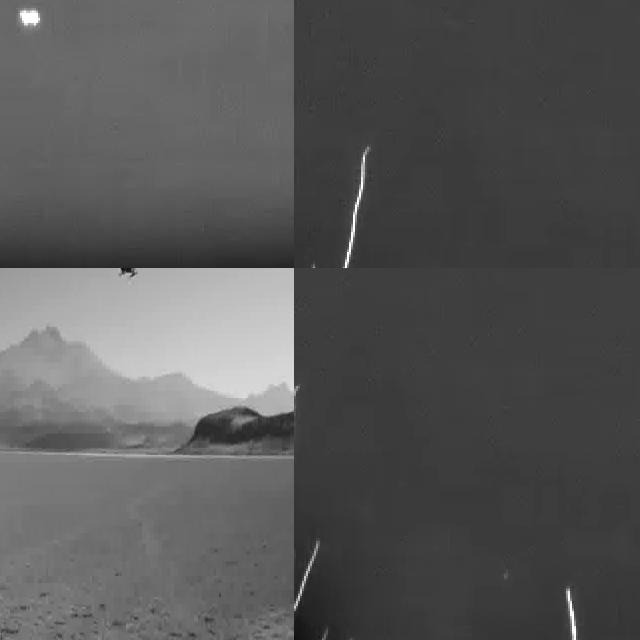0: (497, 561, 519, 591)
1: (13, 7, 49, 37)
drone: (101, 268, 157, 282)
